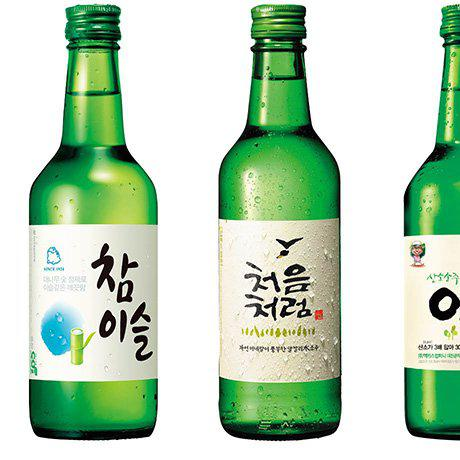soju: (25, 3, 163, 440), (214, 3, 346, 443), (399, 4, 460, 442)
